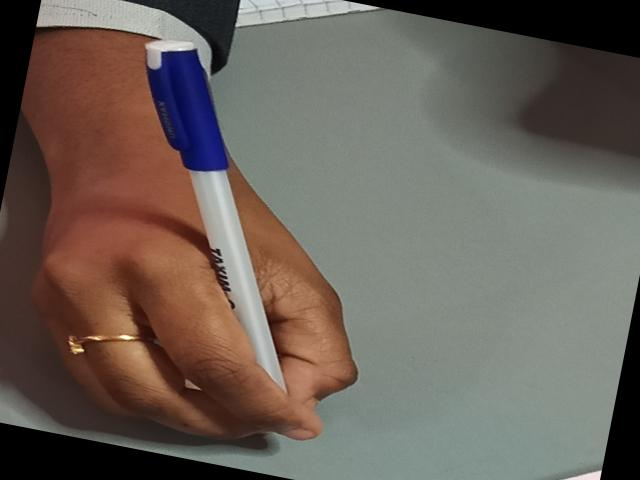PEN: (130, 17, 312, 433)
